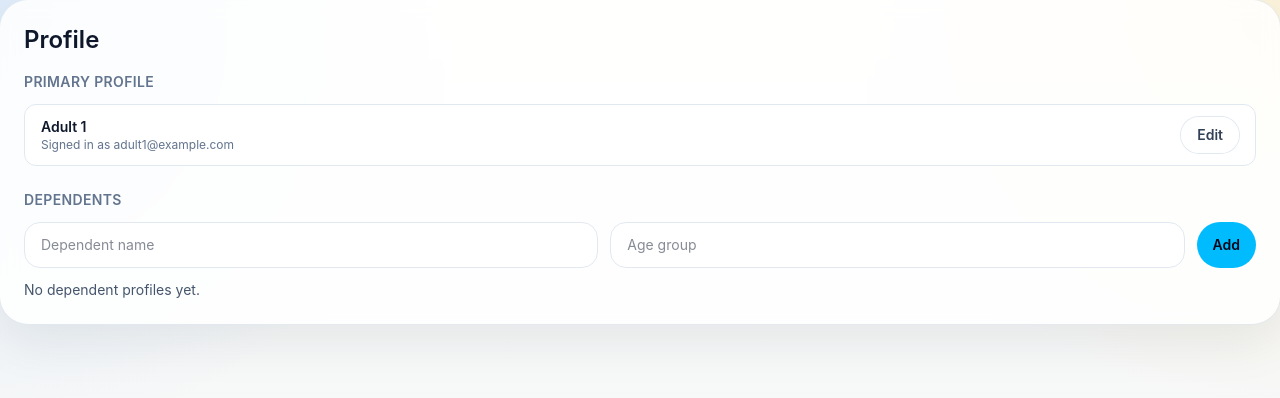
Test: ProfilePage › adds dependent on successful create and clears form fields
The width and height of the screenshot is (1280, 398).
Expected: the text "Signed in as adult1@example.com" is shown, [41,137,234,152]
Step 1. Type "Child 2" into the field labelled "Dependent name" → (311, 245), box [24,222,598,268]
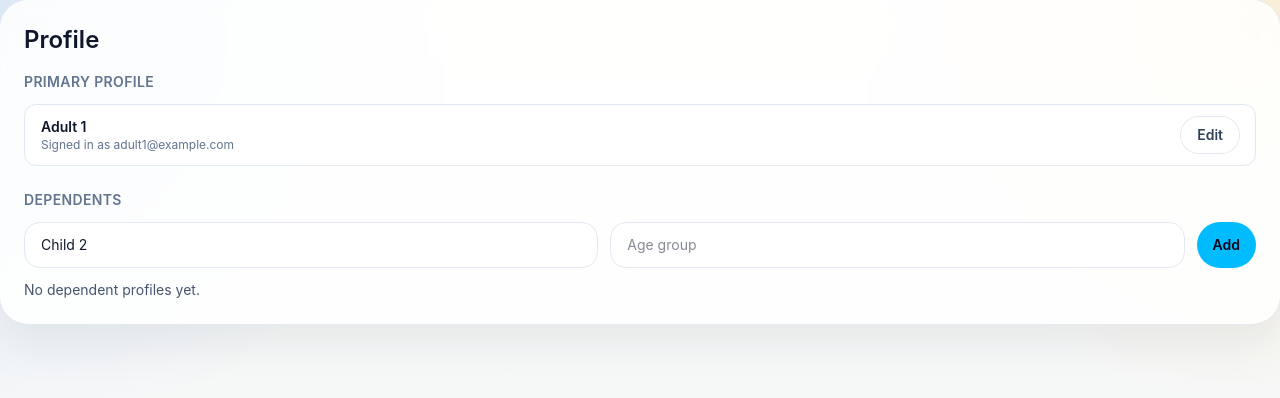
Step 2. Type "toddler" into the field named "Dependent age group" → (897, 245), box [610,222,1185,268]
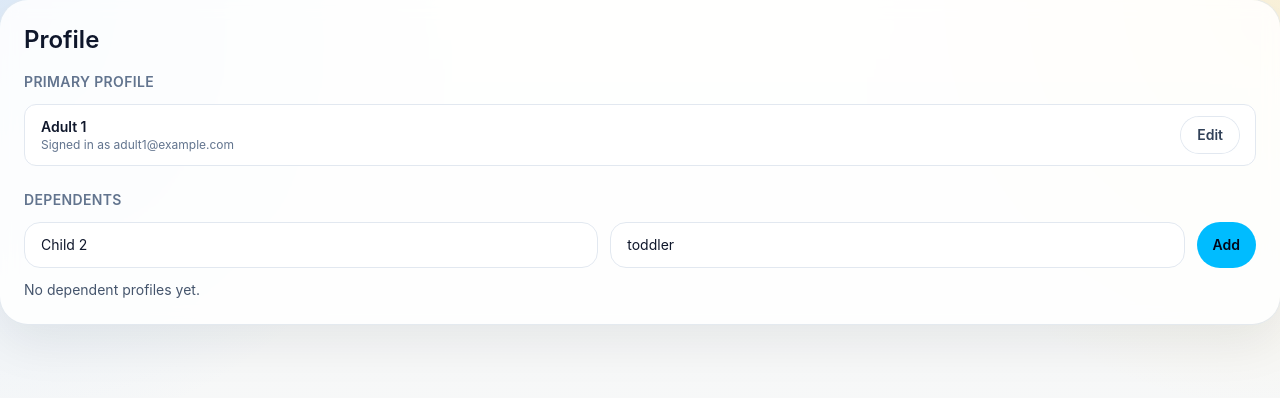
Step 3. Click the button "Add" → click(1226, 245), box [1196,222,1256,268]
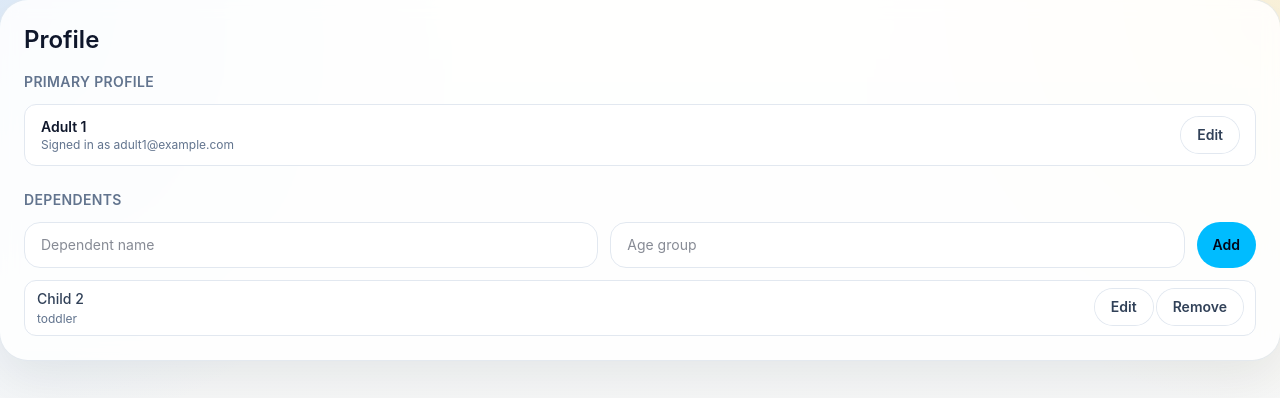
Now the text "Child 2" is shown, box [37,289,84,309]
Now the field labelled "Dependent name" is empty, box [24,222,598,268]
Now the field named "Dependent age group" is empty, box [610,222,1185,268]
